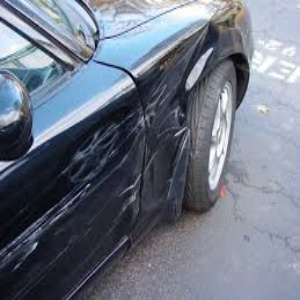door_scratch: (3, 190, 142, 254)
